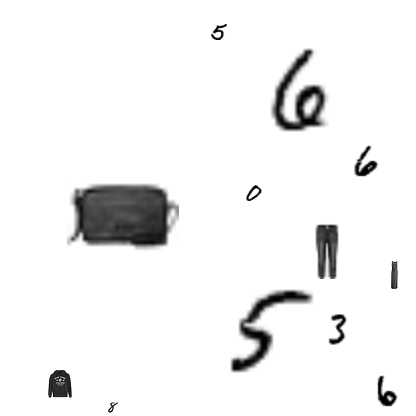0: (242, 182, 264, 204)
3: (317, 307, 359, 349)
5: (204, 267, 316, 379), (207, 21, 229, 43)
6: (240, 42, 352, 154), (363, 373, 405, 415), (344, 143, 386, 185)
8: (105, 400, 119, 414)
Bag: (67, 161, 179, 273)
Dress: (380, 261, 408, 289)
Pullover: (46, 370, 74, 398)
Trouser: (298, 223, 354, 279)
